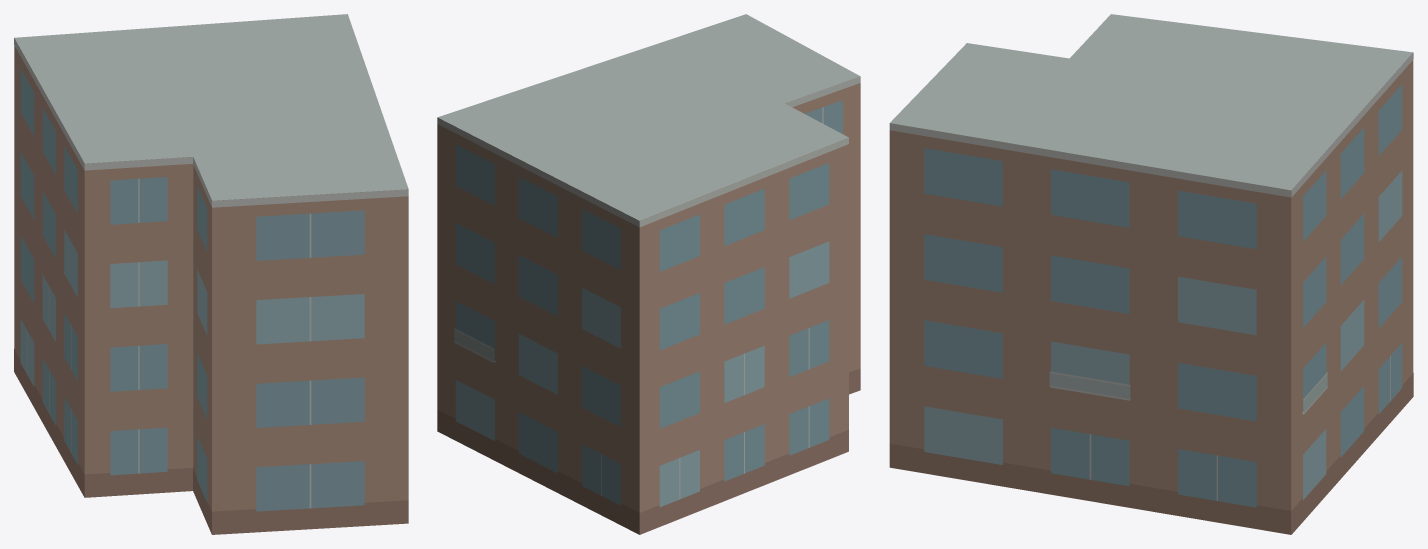
File: survey-upis-32999844.glb
The picture shows the model from 3 angles, left to right: view 1: azimuth 30°, elevation 25°; view 2: azimuth 150°, elevation 25°; view 3: azimuth 270°, elevation 25°; orthographic projection. The views are drawn at different scales.
Parts seen in each view (by area): view 1: survey-upis-32999844.tmp; view 2: survey-upis-32999844.tmp; view 3: survey-upis-32999844.tmp.
Boxes of the visible parts, x1,y1,x2,y2 form: survey-upis-32999844.tmp: (14,14,408,534); survey-upis-32999844.tmp: (437,14,860,534); survey-upis-32999844.tmp: (889,14,1413,534).
Size of the model in its own units: 12.86 by 11.7 by 16.13.
